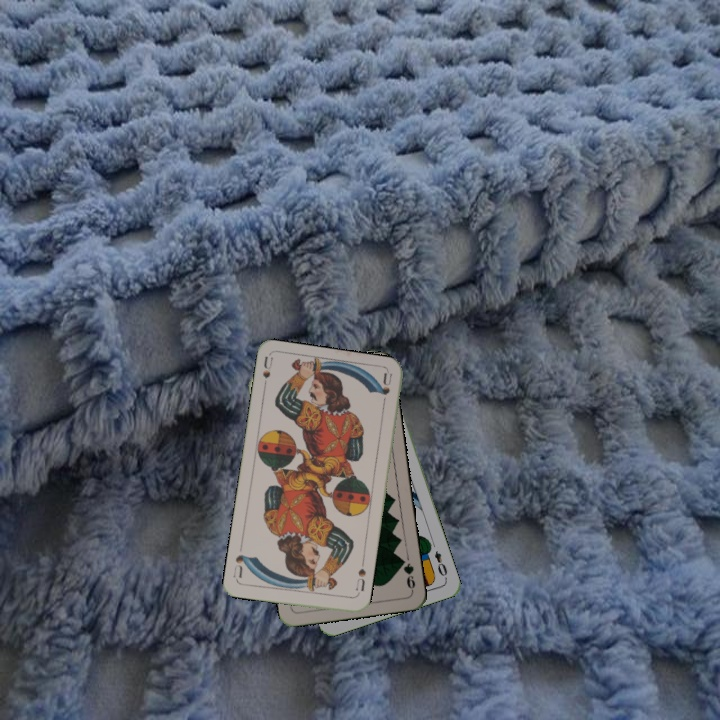EO: (430, 547, 450, 582)
G9: (396, 554, 418, 594)
SU: (259, 353, 275, 394), (352, 558, 368, 594)
